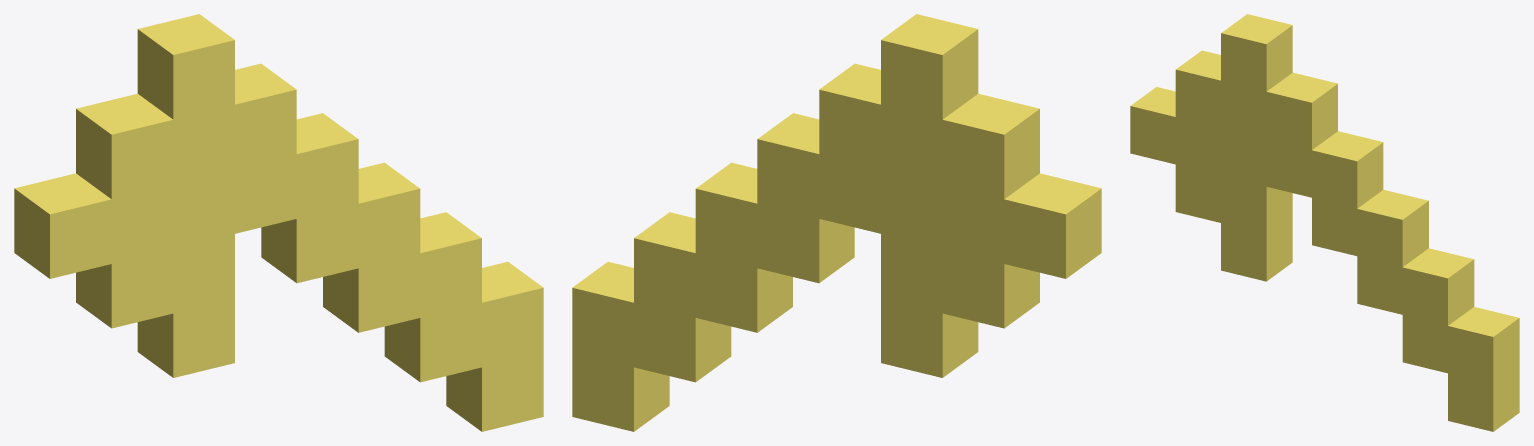
File: Axe-Yellow.vox.obj
3 renders of one model, left to right at view 1: azimuth 30°, elevation 25°; view 2: azimuth 150°, elevation 25°; view 3: azimuth 330°, elevation 25°, orthographic. The views are drawn at different scales.
Size of the model in its own units: 0.8 by 0.7 by 0.1.
Materials: 1 (1 with a texture image).
